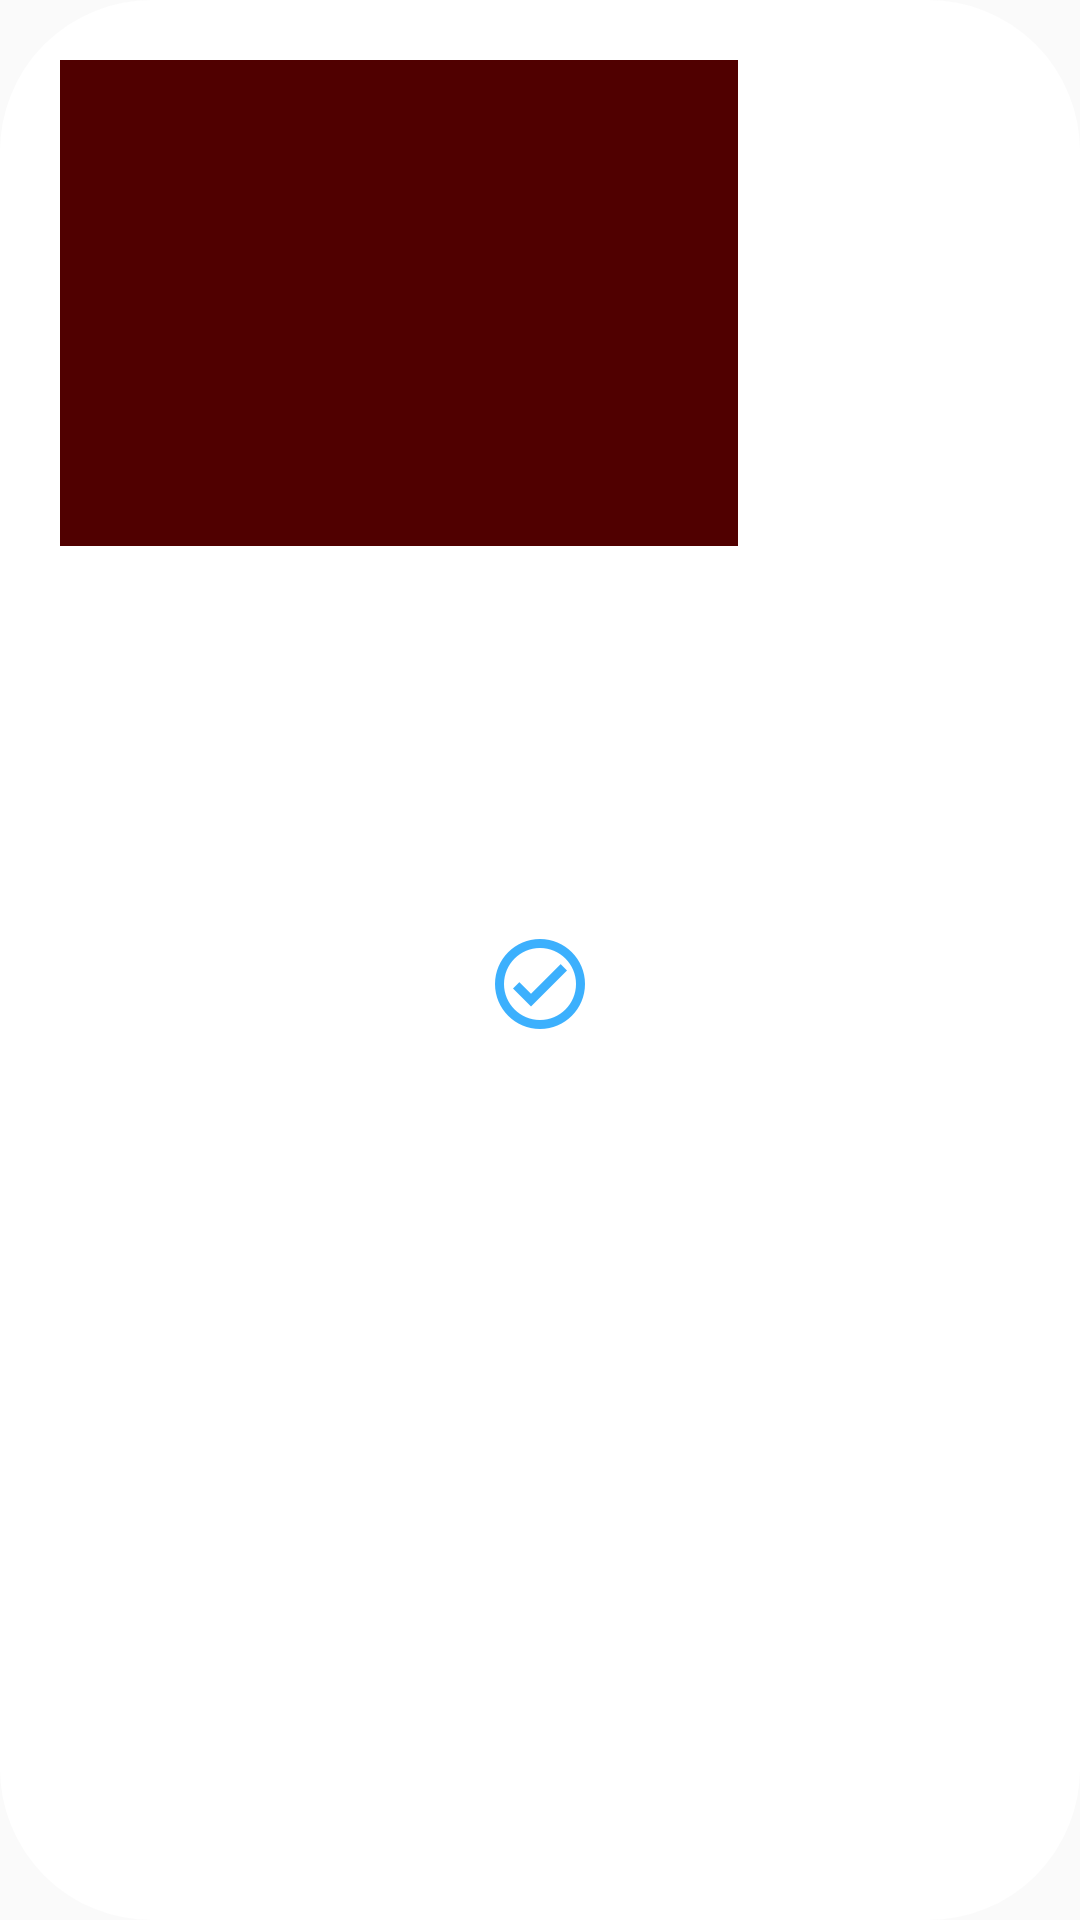

Point at icon controls on the screen. Image size 1080px x 1920px, points as (x,y).
check: (540,984)
